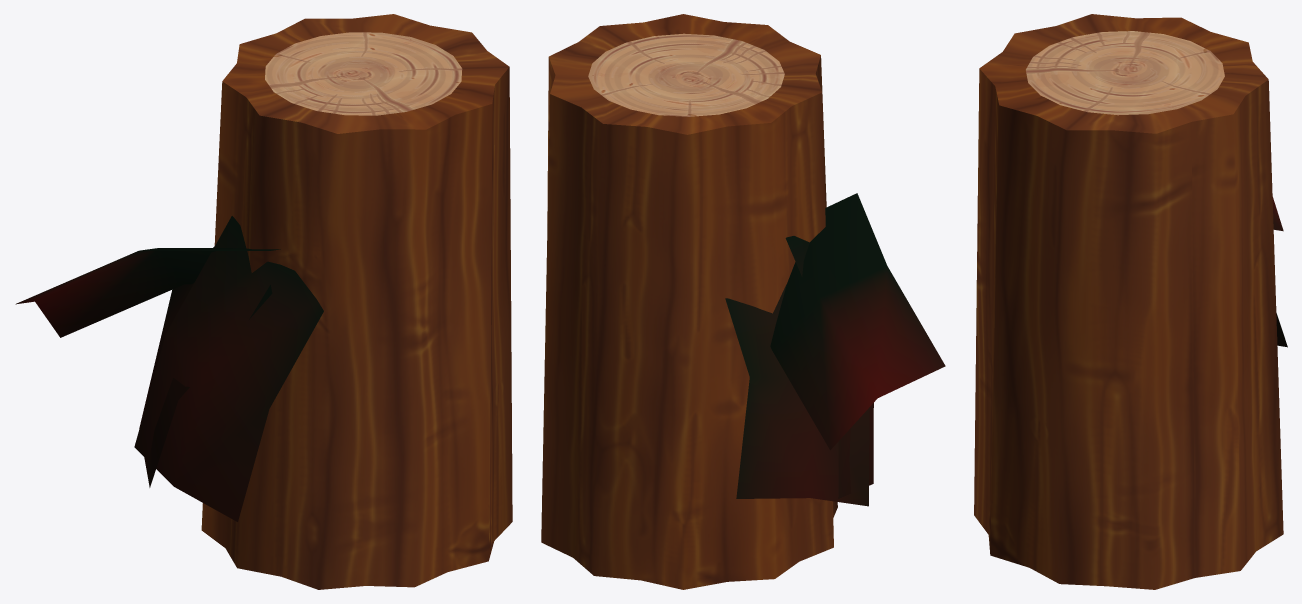
File: obj_harvests_trees_pine03_p01.fbx
The picture shows the model from 3 angles, left to right: view 1: azimuth 30°, elevation 25°; view 2: azimuth 150°, elevation 25°; view 3: azimuth 270°, elevation 25°; orthographic projection.
Visible parts, largest first — view 1: chunk01; view 2: chunk01; view 3: chunk01.
Boxes of the visible parts, x1=… form: chunk01: x1=15, y1=14, x2=512, y2=589; chunk01: x1=541, y1=14, x2=945, y2=589; chunk01: x1=974, y1=14, x2=1287, y2=589.
Bounding box in the file's own units: 8.03 × 8.05 × 5.01.
